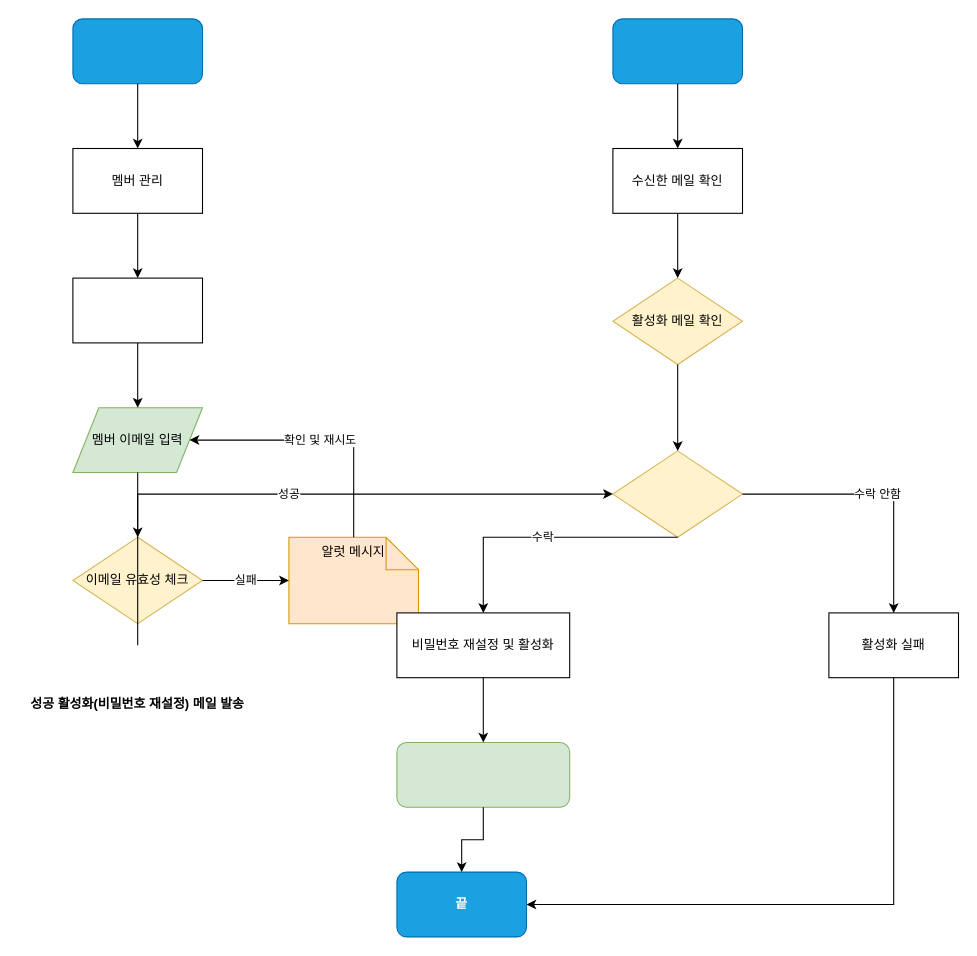
Some shapes in this 977 by 956 pixel diagram are drawn without their labels. The box of each missing label's shape, as (x1, y1, x2, y2) in pixels:
로그인: (72, 18, 202, 84)
멤버 등록: (72, 277, 202, 343)
멤버 등록 완료: (396, 741, 570, 807)
수락 여부: (612, 450, 742, 537)
이메일 로그인: (612, 18, 742, 84)
